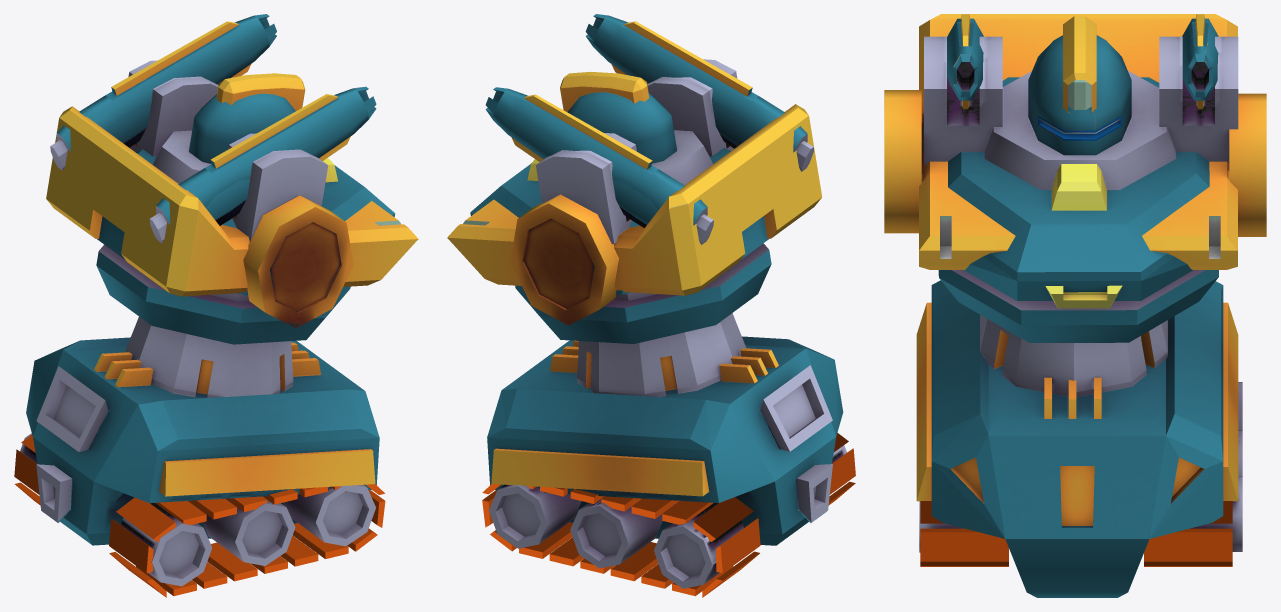
Rendered from Player_Move11.obj.
3 views of the same model, side by side, from view 1: azimuth 30°, elevation 25°; view 2: azimuth 150°, elevation 25°; view 3: azimuth 270°, elevation 25° (orthographic). The views are drawn at different scales.
Parts seen in each view (by area): view 1: Object004, Object014, Box009, Box017, Box016; view 2: Object004, Object014, Box009, Box016, Box017; view 3: Object004, Object014, Box017, Box016, Box009.
Part boxes in pixels (bbox=[...]): Object004: bbox=[26, 60, 418, 545]; Object014: bbox=[50, 14, 376, 243]; Box009: bbox=[20, 433, 375, 586]; Box017: bbox=[109, 484, 385, 597]; Box016: bbox=[14, 434, 40, 505]; Object004: bbox=[447, 59, 843, 545]; Object014: bbox=[485, 14, 813, 244]; Box009: bbox=[489, 445, 846, 588]; Box016: bbox=[482, 484, 760, 597]; Box017: bbox=[828, 433, 855, 505]; Object004: bbox=[884, 14, 1266, 597]; Object014: bbox=[947, 14, 1218, 109]; Box017: bbox=[920, 501, 1008, 566]; Box016: bbox=[1144, 501, 1232, 566]; Box009: bbox=[919, 382, 1242, 552].
Bounding box in the file's own units: 60.24 × 83.2 × 52.49.
